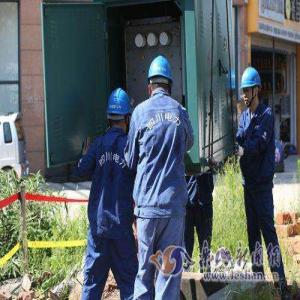blue: (106, 87, 133, 138), (147, 53, 174, 102), (241, 65, 263, 111)
